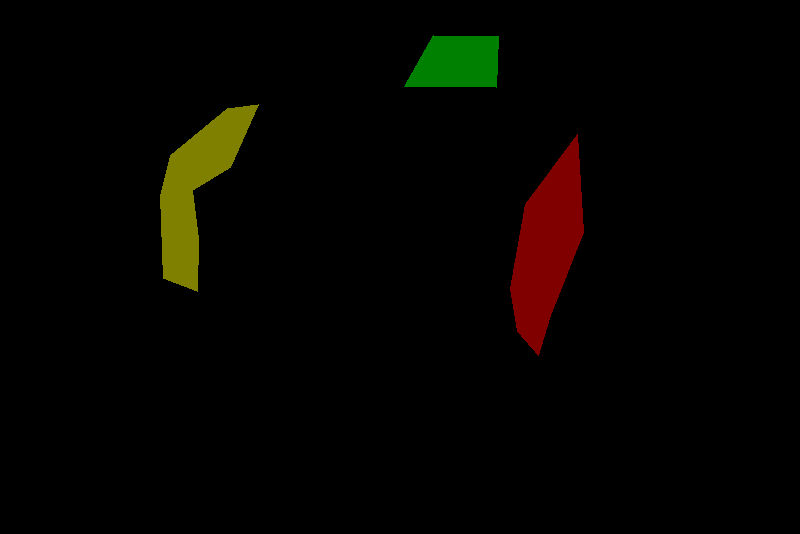fire: (160, 104, 258, 291), (510, 134, 583, 355), (404, 35, 498, 87)
